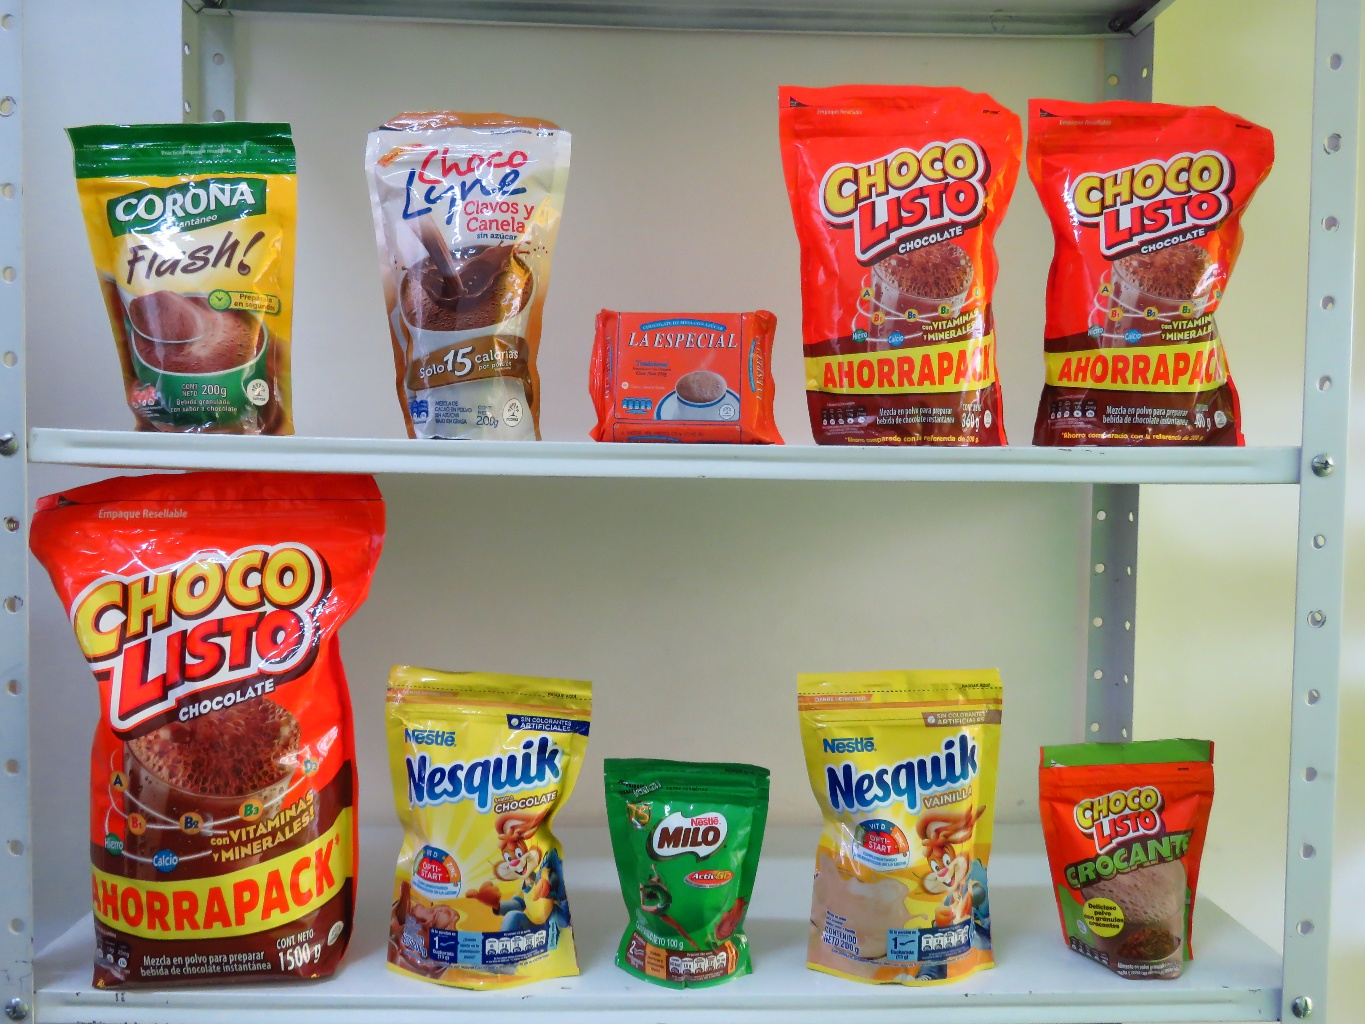COL0170102DYP10000: (1020, 719, 1263, 1000)
COL0170103DYP1,500: (6, 447, 398, 989)
COL0170103DYP36000: (766, 72, 1028, 458)
COL0170103DYP40000: (998, 60, 1313, 460)
COL0170203DYP10000: (582, 741, 779, 993)
COL0170303DYP20000: (360, 655, 597, 995)
COL0170306DYP20000: (768, 642, 1010, 1002)
